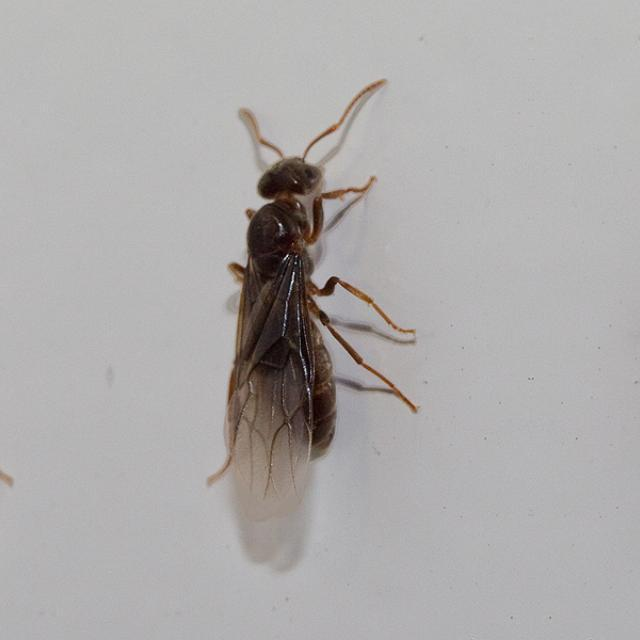Lasius: (222, 88, 381, 552)
